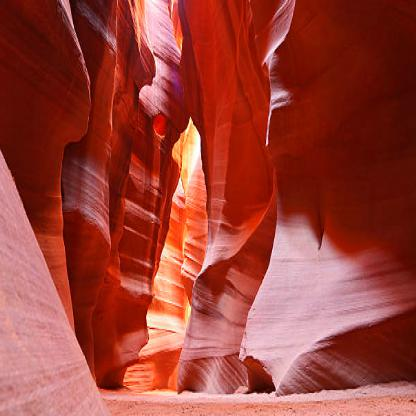Sedimentary_Sandstone: (270, 4, 416, 396), (180, 4, 262, 386), (64, 0, 120, 374), (126, 0, 178, 392)
